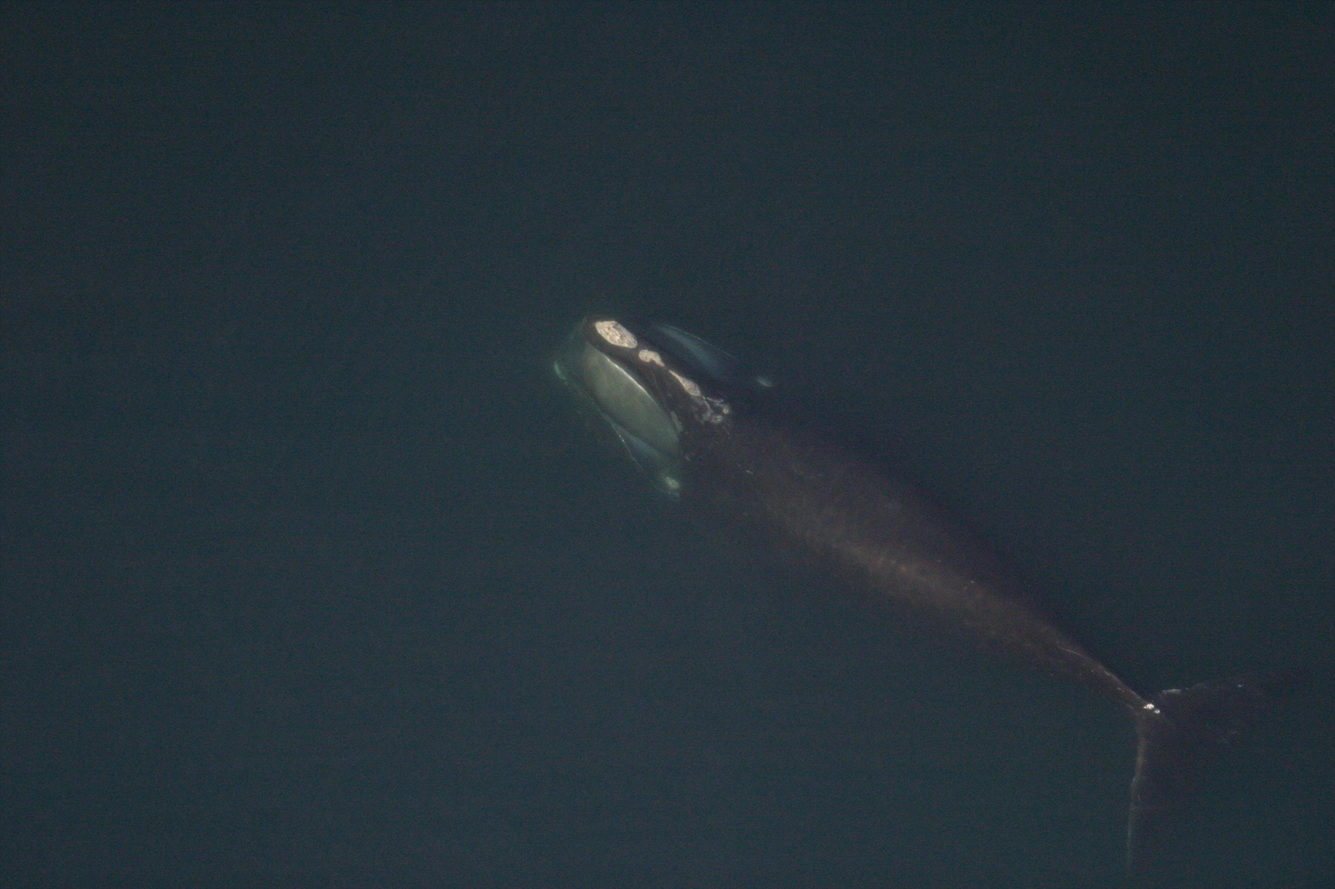whale: (532, 290, 1335, 882)
